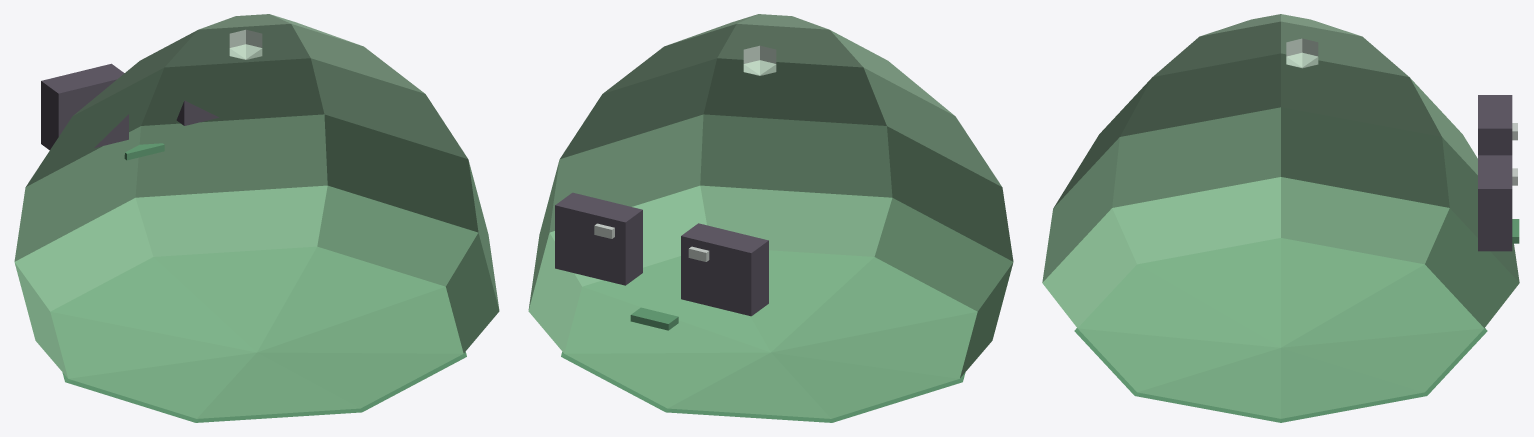
Rendered from enemy_slime.glb.
3 renders of one model, left to right at view 1: azimuth 30°, elevation 25°; view 2: azimuth 150°, elevation 25°; view 3: azimuth 270°, elevation 25°, orthographic.
Visible parts, largest first — view 1: mesh0; view 2: mesh0; view 3: mesh0.
Boxes of the visible parts, <box> form: mesh0: <box>14,14,499,422</box>; mesh0: <box>528,14,1013,422</box>; mesh0: <box>1042,14,1519,422</box>.
Bounding box in the file's own units: 0.704 × 0.505 × 0.6688.
